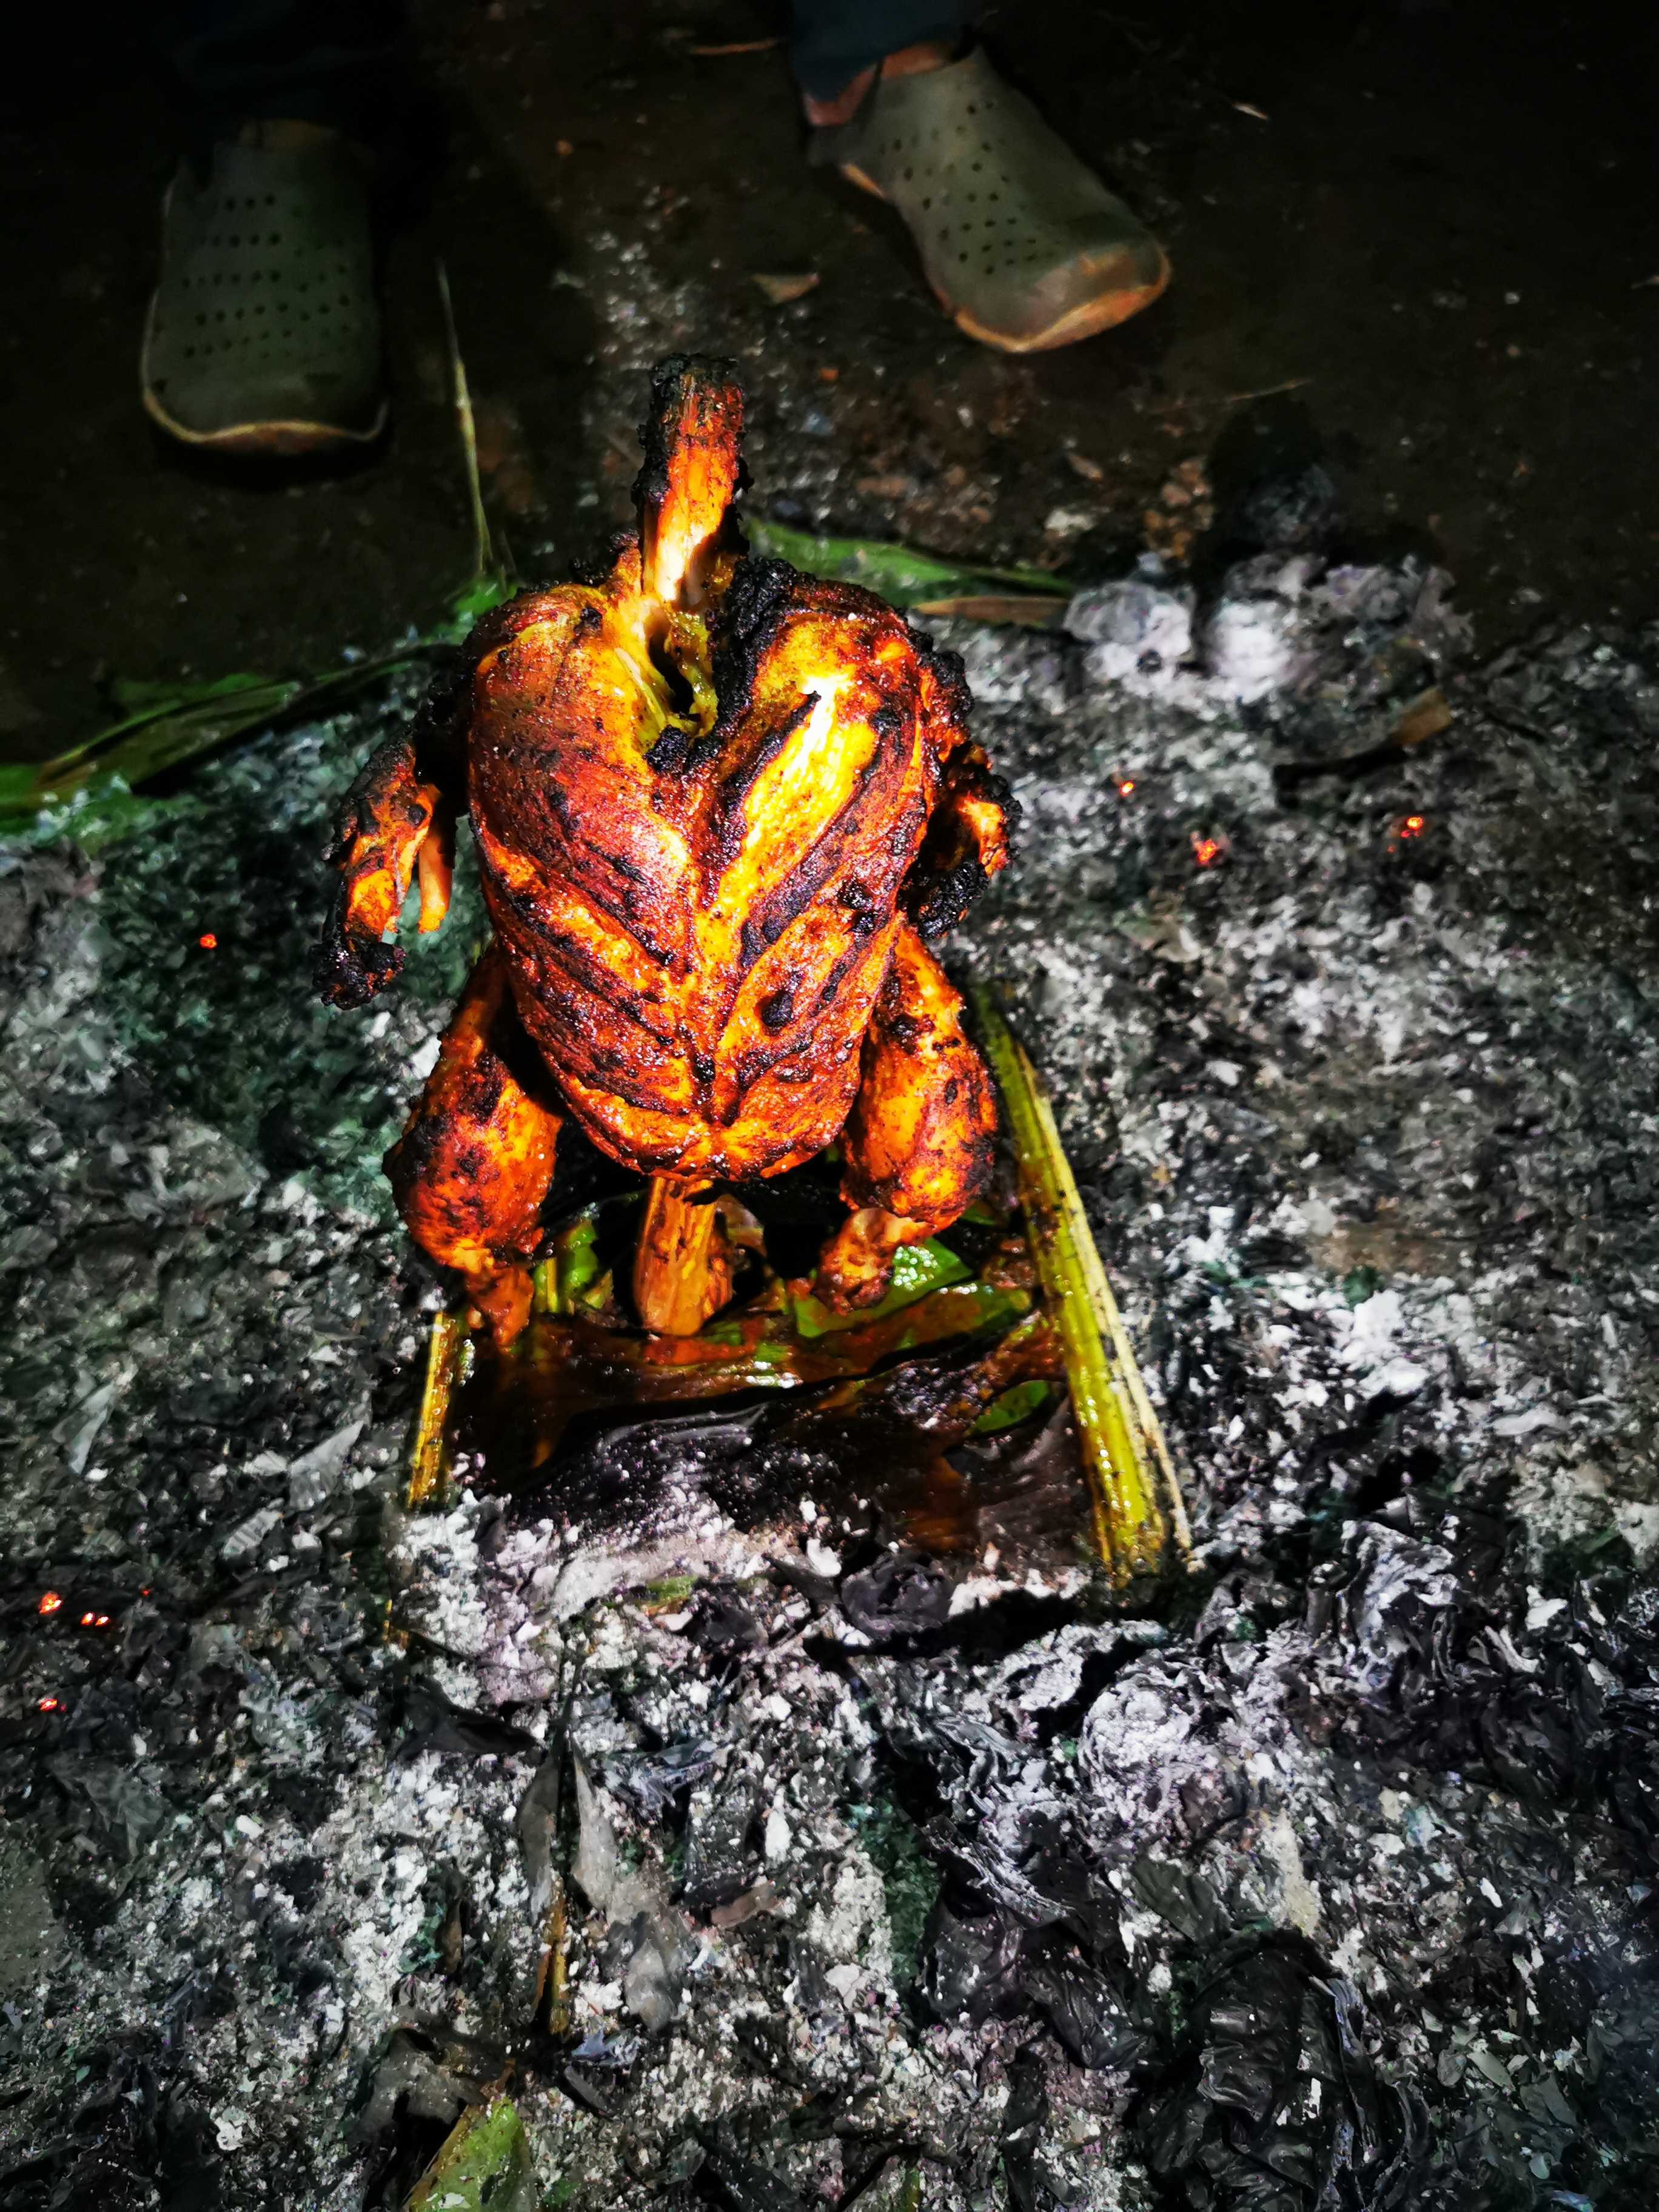food: (309, 346, 1198, 1607)
